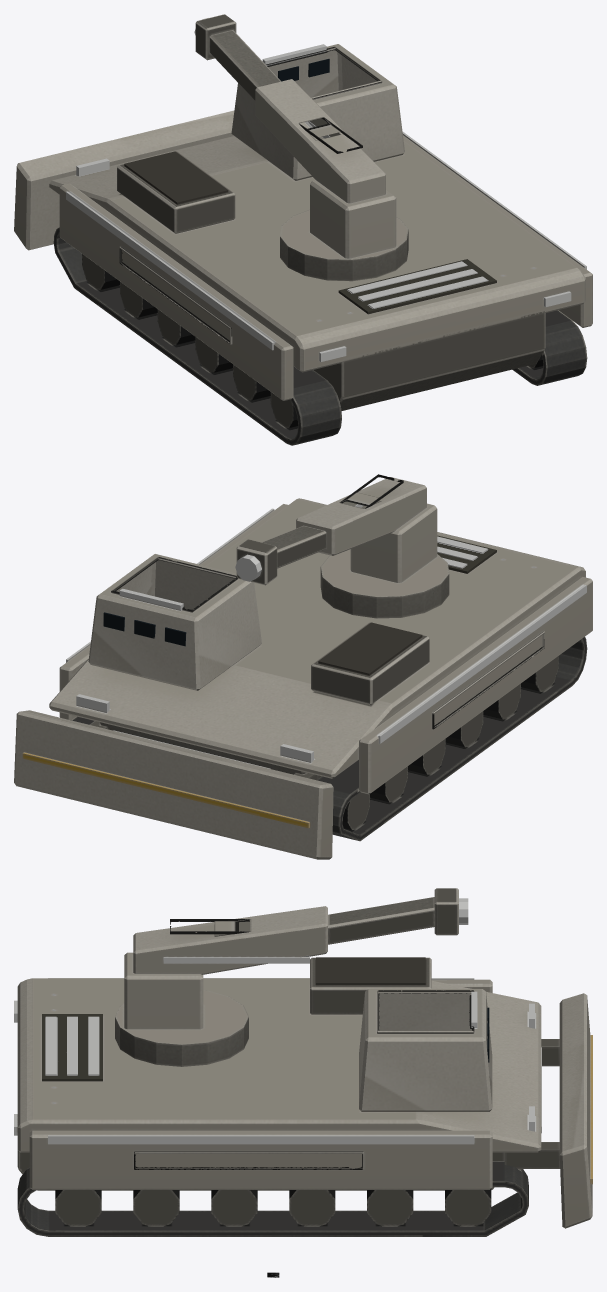
Rendered from ord_magistrate.fbx.
The picture shows the model from 3 angles, top to bottom: view 1: azimuth 30°, elevation 25°; view 2: azimuth 150°, elevation 25°; view 3: azimuth 270°, elevation 25°; orthographic projection. The views are drawn at different scales.
Parts seen in each view (by area): view 1: base_bar, nano_bar, trackL_bar, base_glow_running_bar, trackR_bar, base_glow_head_bar; view 2: base_bar, nano_bar, trackL_bar, base_glow_running_bar, base_glow_head_bar, nano_glow_power_bar; view 3: base_bar, nano_bar, trackR_bar, base_glow_running_bar, nano_glow_running_bar, base_glow_head_bar.
Boxes of the visible parts, x1,y1,x2,y2 form: base_bar: (14, 44, 592, 410); nano_bar: (195, 14, 408, 281); trackL_bar: (53, 227, 341, 445); base_glow_running_bar: (66, 132, 586, 361); trackR_bar: (512, 310, 587, 385); base_glow_head_bar: (76, 44, 326, 176); base_bar: (14, 498, 592, 859); nano_bar: (236, 474, 449, 618); trackL_bar: (318, 637, 587, 841); base_glow_running_bar: (66, 508, 586, 768); base_glow_head_bar: (76, 588, 313, 762); nano_glow_power_bar: (235, 554, 261, 581); base_bar: (17, 957, 592, 1228); nano_bar: (115, 888, 458, 1066); trackR_bar: (17, 1161, 528, 1236); base_glow_running_bar: (14, 978, 541, 1144); nano_glow_running_bar: (163, 957, 309, 963); base_glow_head_bar: (471, 991, 534, 1131).
Size of the model in its own units: 616 by 670 by 951.
2 materials, 2 textured.
